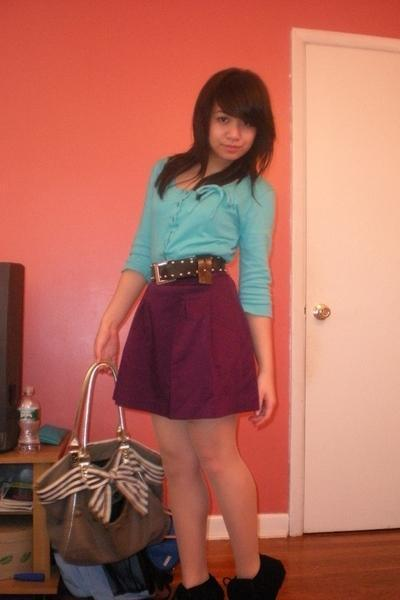bag: (37, 430, 176, 567)
shirt: (126, 180, 274, 315)
shoe: (163, 554, 285, 599)
skirt: (112, 276, 259, 419)
